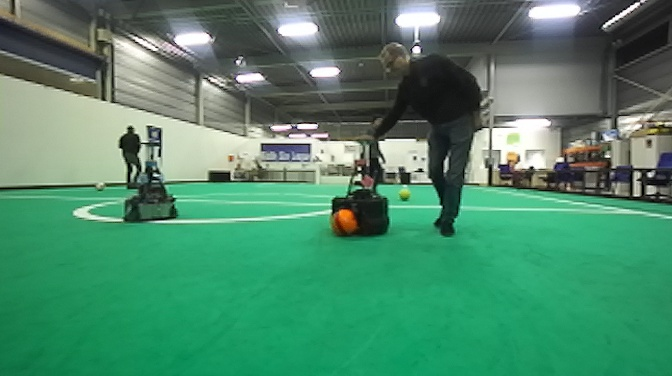ball: (328, 208, 361, 238), (398, 186, 413, 203), (91, 180, 107, 193)
goalpost: (313, 162, 321, 187)
human: (349, 40, 485, 239), (119, 121, 142, 191)
robot: (326, 139, 392, 240), (119, 135, 179, 225)
